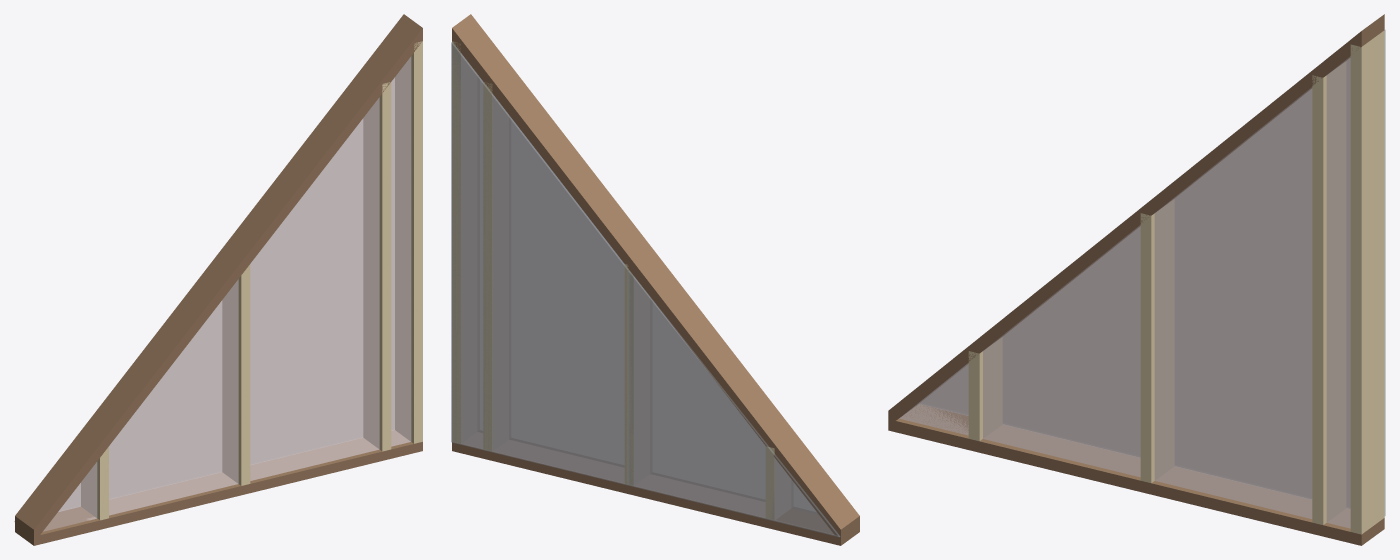
Rendered from EX7_GBL.glb.
The picture shows the model from 3 angles, left to right: view 1: azimuth 30°, elevation 25°; view 2: azimuth 150°, elevation 25°; view 3: azimuth 330°, elevation 25°; orthographic projection. The views are drawn at different scales.
Visible parts, largest first — view 1: EX7 GBL; view 2: EX7 GBL; view 3: EX7 GBL.
Part boxes in pixels (box(x1,y1,x2,y2)): EX7 GBL: box(14, 14, 422, 545); EX7 GBL: box(451, 14, 859, 545); EX7 GBL: box(888, 14, 1385, 545).
Size of the model in its own units: 1.65 by 1.72 by 0.149.
